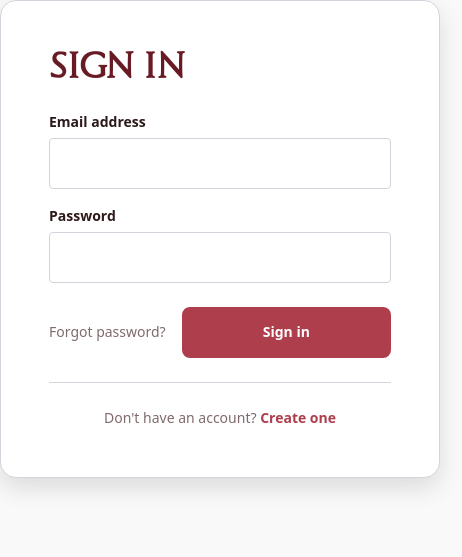
Scenario: LoginPage — client-side validation › shows an error when email is empty on submit
The width and height of the screenshot is (462, 557).
Step 1. Click the button "Sign in" → (286, 333), box [182, 307, 391, 358]
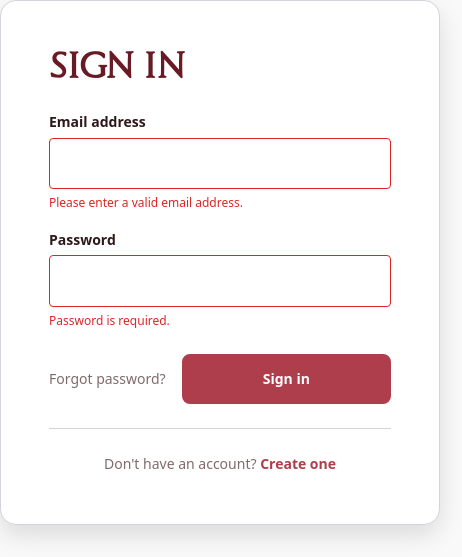
Now the text "Please enter a valid email address." is shown, box [49, 194, 243, 211]
